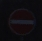No entry: (6, 5, 37, 36)
